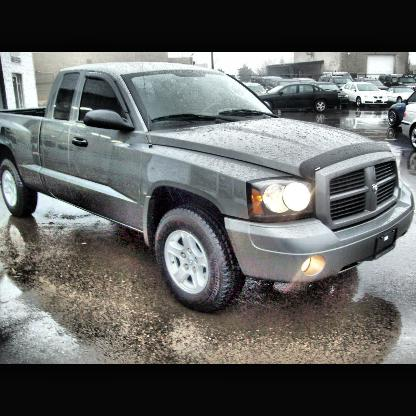Dodge Dakota Club Cab 2007: (1, 66, 416, 314)
